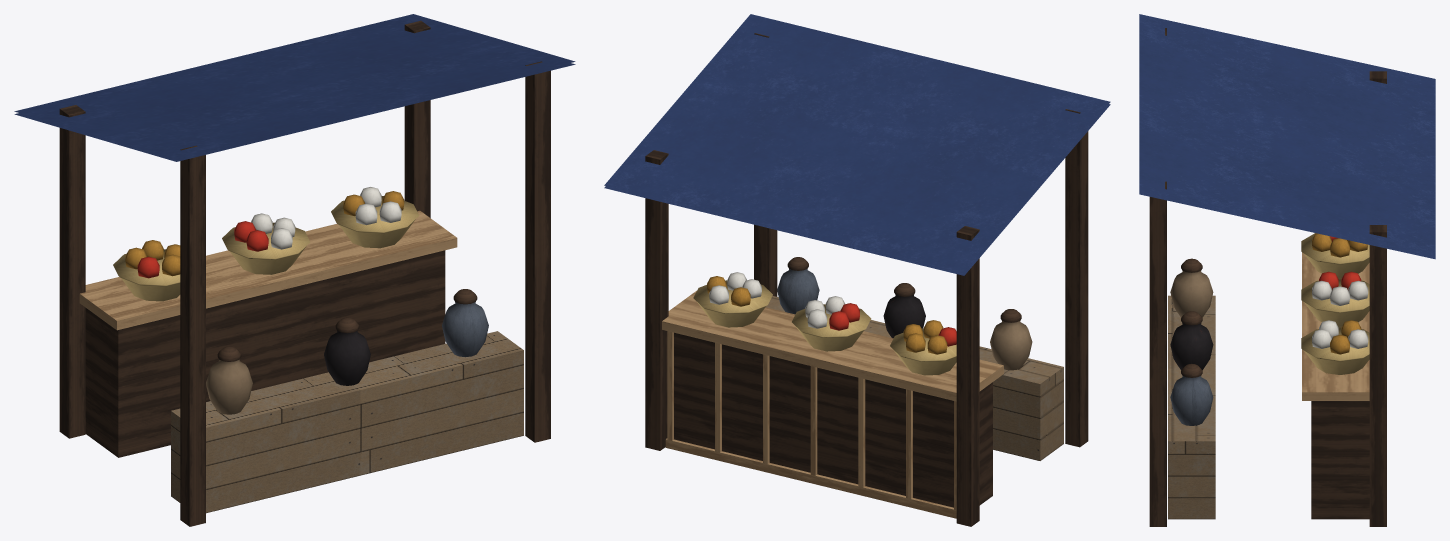
Rendered from HO_Prop_MarketStall_B.fbx.
3 views of the same model, side by side, from view 1: azimuth 30°, elevation 25°; view 2: azimuth 150°, elevation 25°; view 3: azimuth 270°, elevation 25° (orthographic). The views are drawn at different scales.
Parts seen in each view (by area): view 1: HO_Prop_MarketStall_B__Timber_Dark, HO_Prop_MarketStall_B__Cloth_Indigo, HO_Prop_MarketStall_B__Wood_Planks, HO_Prop_MarketStall_B__Timber_Light, HO_Prop_MarketStall_B__Straw, HO_Prop_MarketStall_B__Cloth_White, HO_Prop_MarketStall_B__Black_Lacquer, HO_Prop_MarketStall_B__Earth_Packed, HO_Prop_MarketStall_B__RoofTile_Clay, HO_Prop_MarketStall_B__Cloth_Ochre, HO_Prop_MarketStall_B__Red_Lacquer; view 2: HO_Prop_MarketStall_B__Cloth_Indigo, HO_Prop_MarketStall_B__Timber_Dark, HO_Prop_MarketStall_B__Timber_Light, HO_Prop_MarketStall_B__Wood_Planks, HO_Prop_MarketStall_B__Straw, HO_Prop_MarketStall_B__Cloth_White, HO_Prop_MarketStall_B__Cloth_Ochre, HO_Prop_MarketStall_B__Earth_Packed, HO_Prop_MarketStall_B__RoofTile_Clay, HO_Prop_MarketStall_B__Black_Lacquer, HO_Prop_MarketStall_B__Red_Lacquer; view 3: HO_Prop_MarketStall_B__Cloth_Indigo, HO_Prop_MarketStall_B__Timber_Dark, HO_Prop_MarketStall_B__Wood_Planks, HO_Prop_MarketStall_B__Straw, HO_Prop_MarketStall_B__Timber_Light, HO_Prop_MarketStall_B__Cloth_White, HO_Prop_MarketStall_B__RoofTile_Clay, HO_Prop_MarketStall_B__Earth_Packed, HO_Prop_MarketStall_B__Black_Lacquer, HO_Prop_MarketStall_B__Cloth_Ochre, HO_Prop_MarketStall_B__Red_Lacquer.
Part boxes in pixels (x1,y1,x2,y2): HO_Prop_MarketStall_B__Timber_Dark: (59,20,550,526); HO_Prop_MarketStall_B__Cloth_Indigo: (14,14,575,161); HO_Prop_MarketStall_B__Wood_Planks: (171,331,523,513); HO_Prop_MarketStall_B__Timber_Light: (79,210,457,330); HO_Prop_MarketStall_B__Straw: (113,196,419,301); HO_Prop_MarketStall_B__Cloth_White: (251,187,401,249); HO_Prop_MarketStall_B__Black_Lacquer: (324,330,370,385); HO_Prop_MarketStall_B__Earth_Packed: (206,359,252,414); HO_Prop_MarketStall_B__RoofTile_Clay: (442,302,488,357); HO_Prop_MarketStall_B__Cloth_Ochre: (125,191,404,276); HO_Prop_MarketStall_B__Red_Lacquer: (137,221,268,278); HO_Prop_MarketStall_B__Cloth_Indigo: (604,14,1110,275); HO_Prop_MarketStall_B__Timber_Dark: (645,33,1088,526); HO_Prop_MarketStall_B__Timber_Light: (662,290,1003,518); HO_Prop_MarketStall_B__Wood_Planks: (766,296,1063,460); HO_Prop_MarketStall_B__Straw: (693,280,956,375); HO_Prop_MarketStall_B__Cloth_White: (709,272,844,328); HO_Prop_MarketStall_B__Cloth_Ochre: (707,276,947,354); HO_Prop_MarketStall_B__Earth_Packed: (990,320,1032,370); HO_Prop_MarketStall_B__RoofTile_Clay: (777,269,819,314); HO_Prop_MarketStall_B__Black_Lacquer: (883,294,925,338); HO_Prop_MarketStall_B__Red_Lacquer: (829,303,956,346); HO_Prop_MarketStall_B__Cloth_Indigo: (1139,14,1435,259); HO_Prop_MarketStall_B__Timber_Dark: (1149,28,1386,526); HO_Prop_MarketStall_B__Wood_Planks: (1168,295,1215,519); HO_Prop_MarketStall_B__Straw: (1301,233,1369,374); HO_Prop_MarketStall_B__Timber_Light: (1302,252,1369,400); HO_Prop_MarketStall_B__Cloth_White: (1312,280,1368,348); HO_Prop_MarketStall_B__RoofTile_Clay: (1170,375,1213,425); HO_Prop_MarketStall_B__Earth_Packed: (1170,270,1213,317); HO_Prop_MarketStall_B__Black_Lacquer: (1170,323,1213,370); HO_Prop_MarketStall_B__Cloth_Ochre: (1312,233,1367,354); HO_Prop_MarketStall_B__Red_Lacquer: (1319,236,1361,290).
Size of the model in its own units: 8.8 by 7.93 by 6.2.
